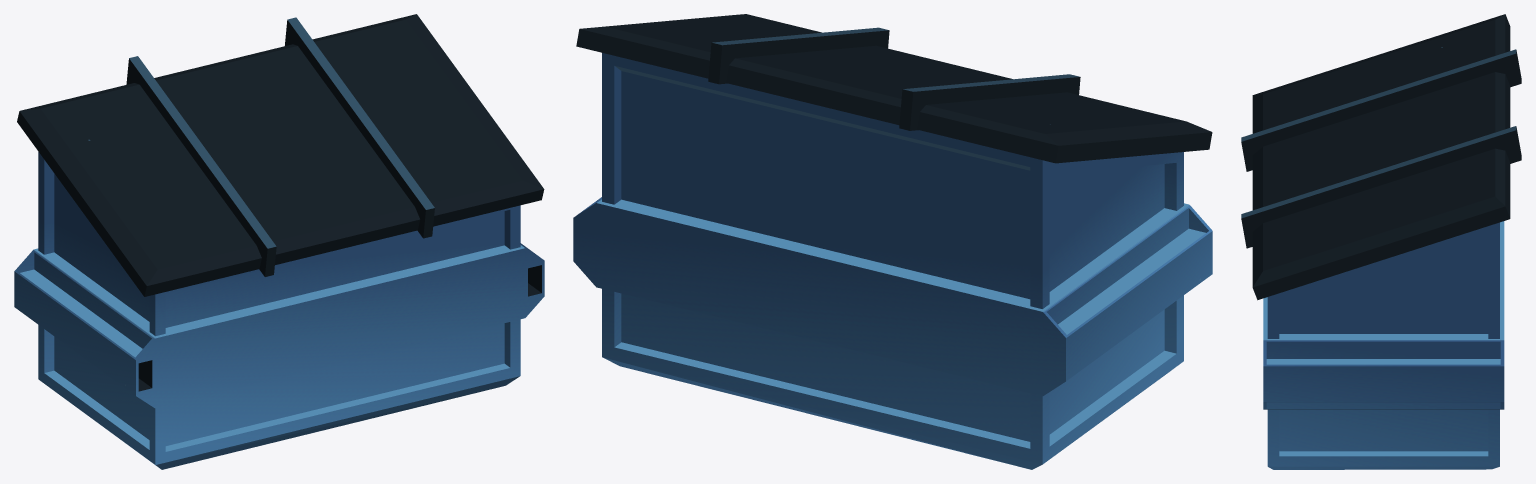
Rendered from WasteBin1.fbx.
The picture shows the model from 3 angles, left to right: view 1: azimuth 30°, elevation 25°; view 2: azimuth 150°, elevation 25°; view 3: azimuth 270°, elevation 25°; orthographic projection. The views are drawn at different scales.
Parts seen in each view (by area): view 1: WasteBin1; view 2: WasteBin1; view 3: WasteBin1.
Part boxes in pixels (x1=…): WasteBin1: x1=14, y1=14, x2=544, y2=469; WasteBin1: x1=573, y1=14, x2=1212, y2=469; WasteBin1: x1=1241, y1=14, x2=1521, y2=469.
Size of the model in its own units: 2.01 by 1.42 by 1.21.
